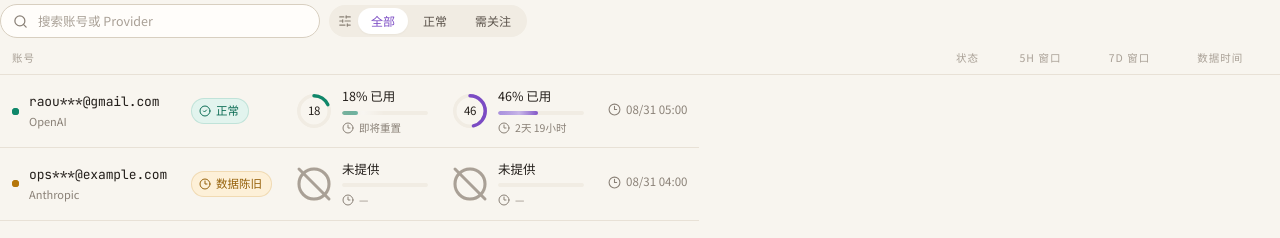
PoolTable › filters accounts by text and attention state
Type "OpenAI" into the search field with placeholder "搜索账号或 Provider".
click(172, 21); type("OpenAI")  # box [36,10,307,32]
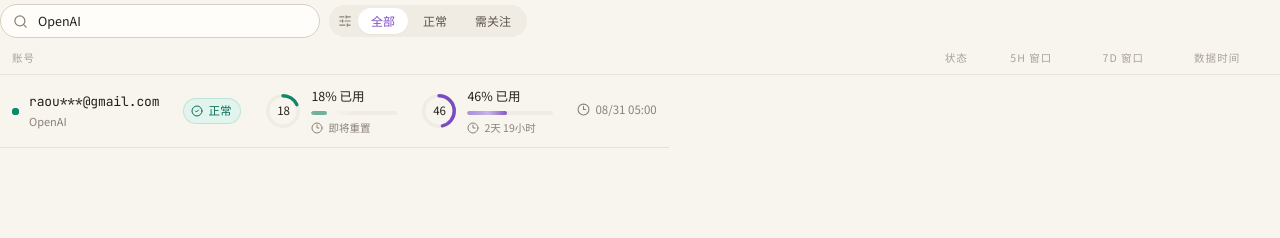
Expected: the text "raou***@gmail.com" is shown, [29,92,159,112]
Result: the text "ops***@example.com" is gone
Clear the search field named "搜索账号池" at (172, 21), box [36,10,307,32]
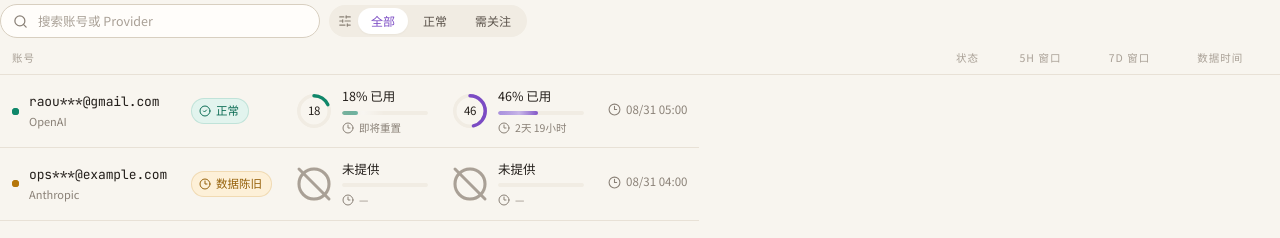
Click the button "需关注".
click(493, 21)  # box [462,8,524,34]
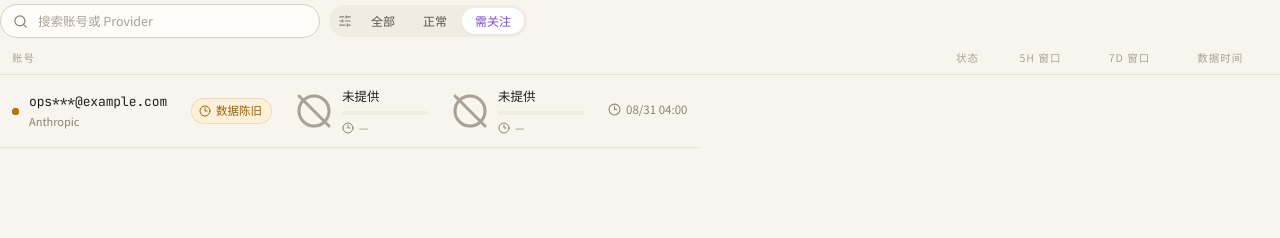
Result: the text "ops***@example.com" is shown at [29,92,167,112]
Result: the text "raou***@gmail.com" is gone
